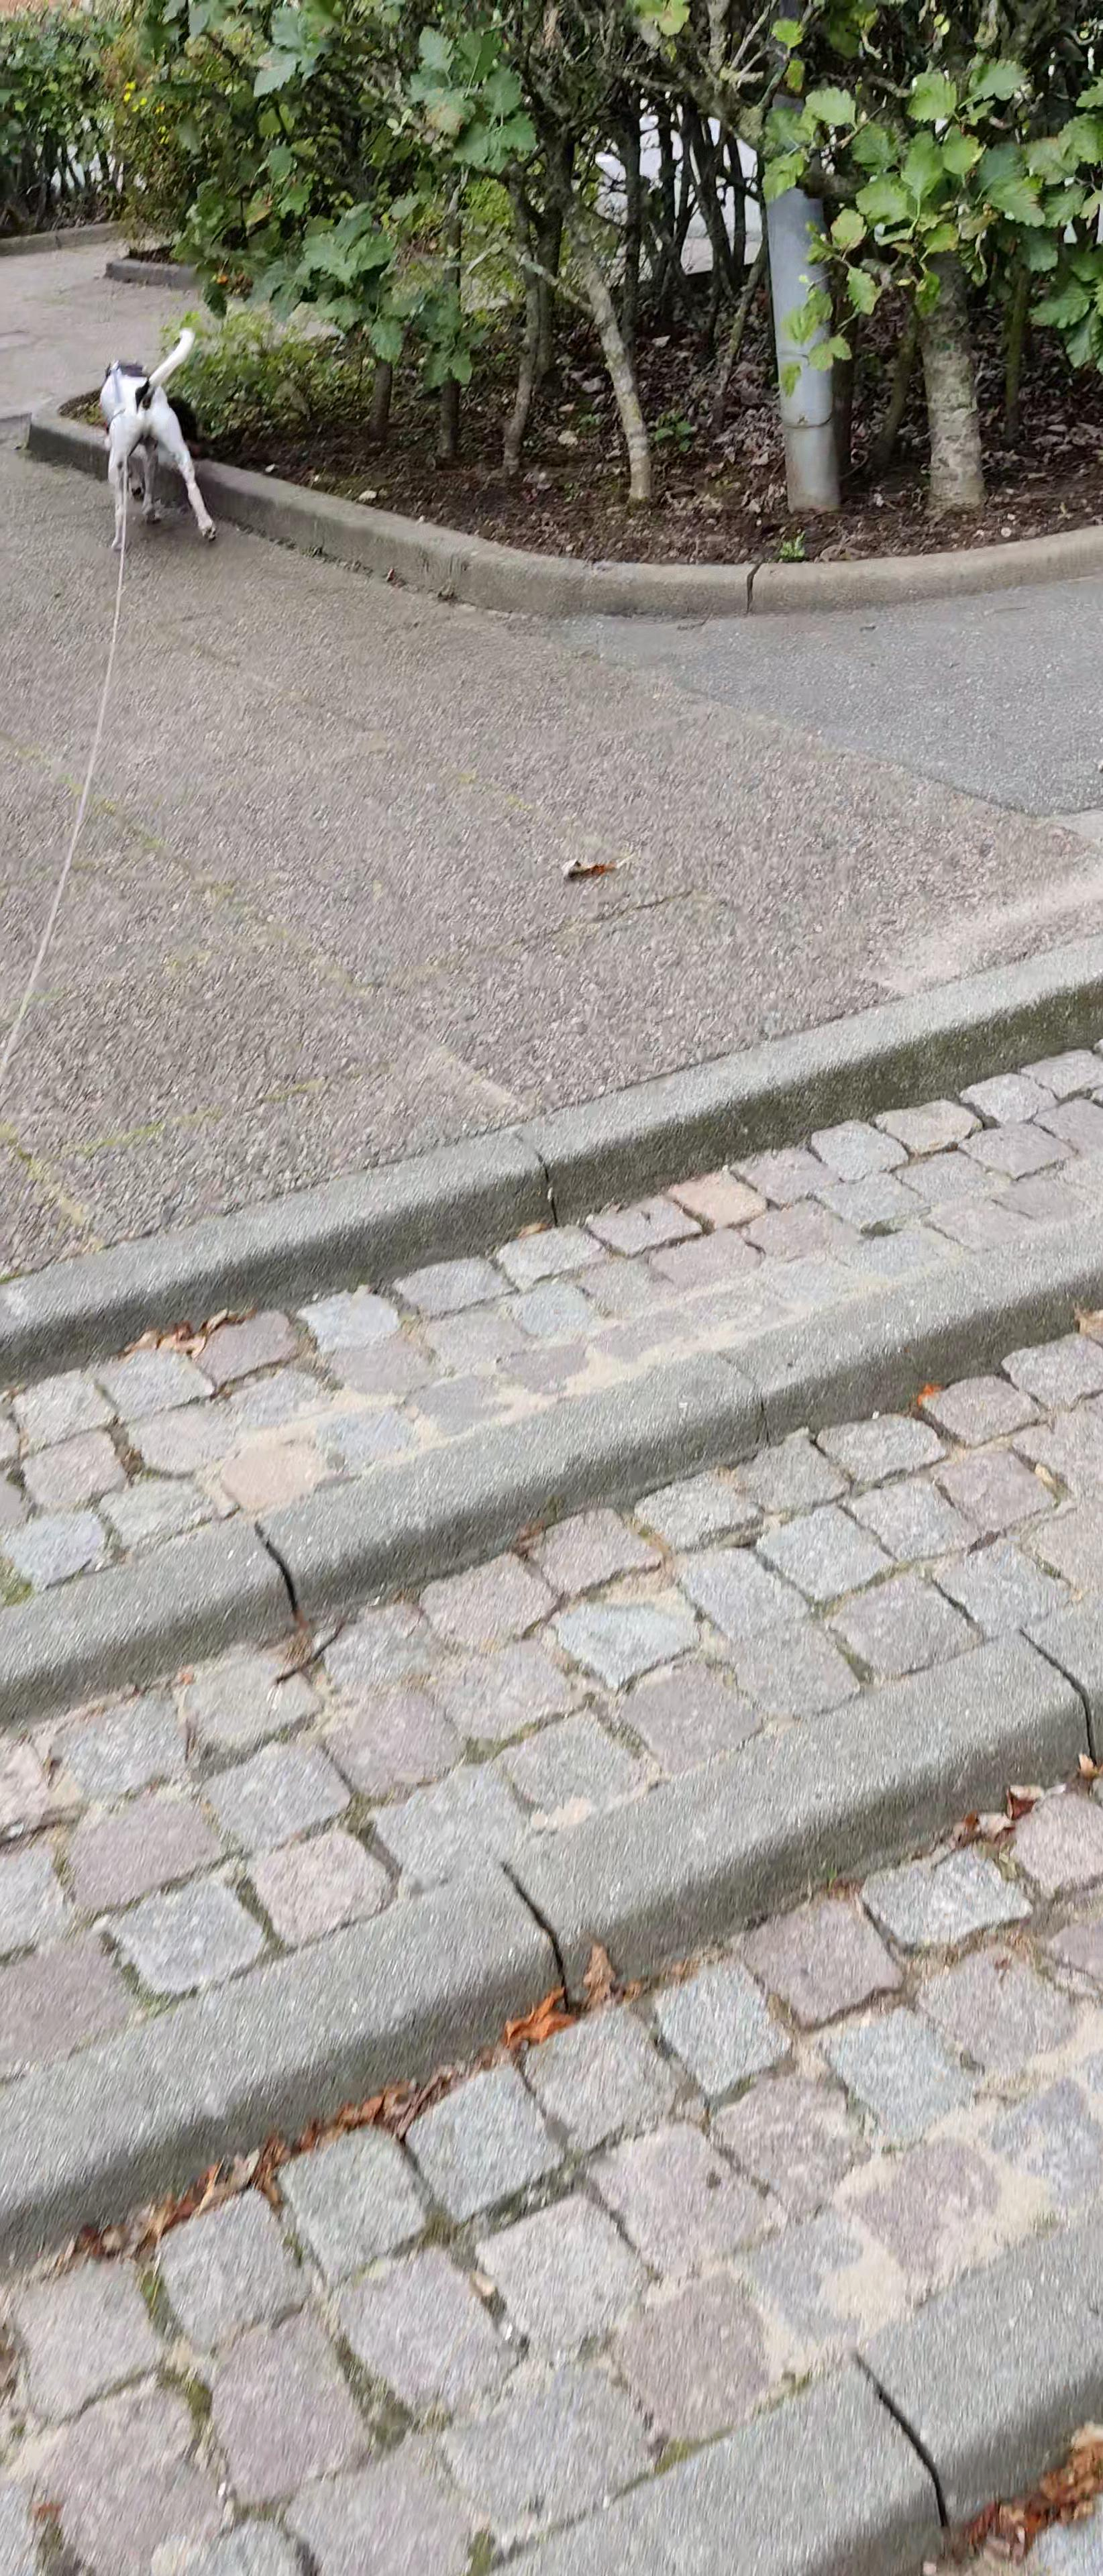Dog: (90, 322, 224, 552)
